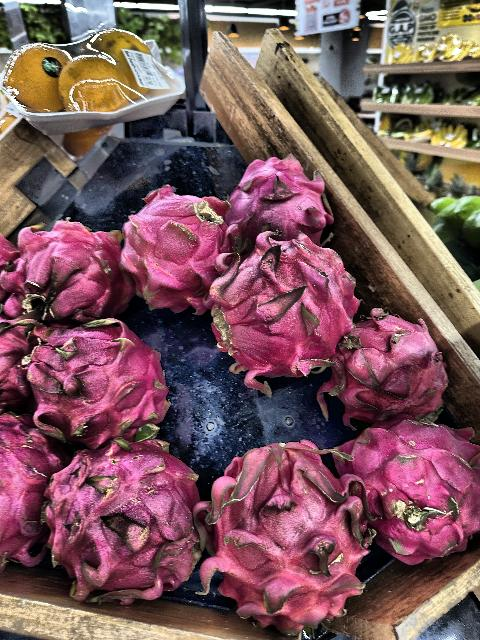buah-naga-matang: (208, 423, 358, 629), (33, 446, 203, 594), (334, 407, 480, 558), (197, 238, 361, 362), (4, 334, 176, 438), (330, 310, 462, 430), (107, 190, 242, 298), (3, 228, 143, 322), (221, 157, 339, 246)
